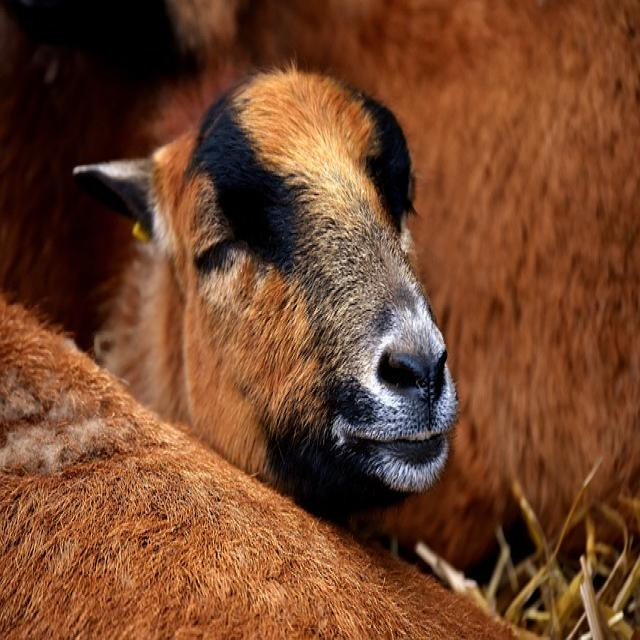sheep: (1, 0, 638, 575), (0, 290, 523, 638)
